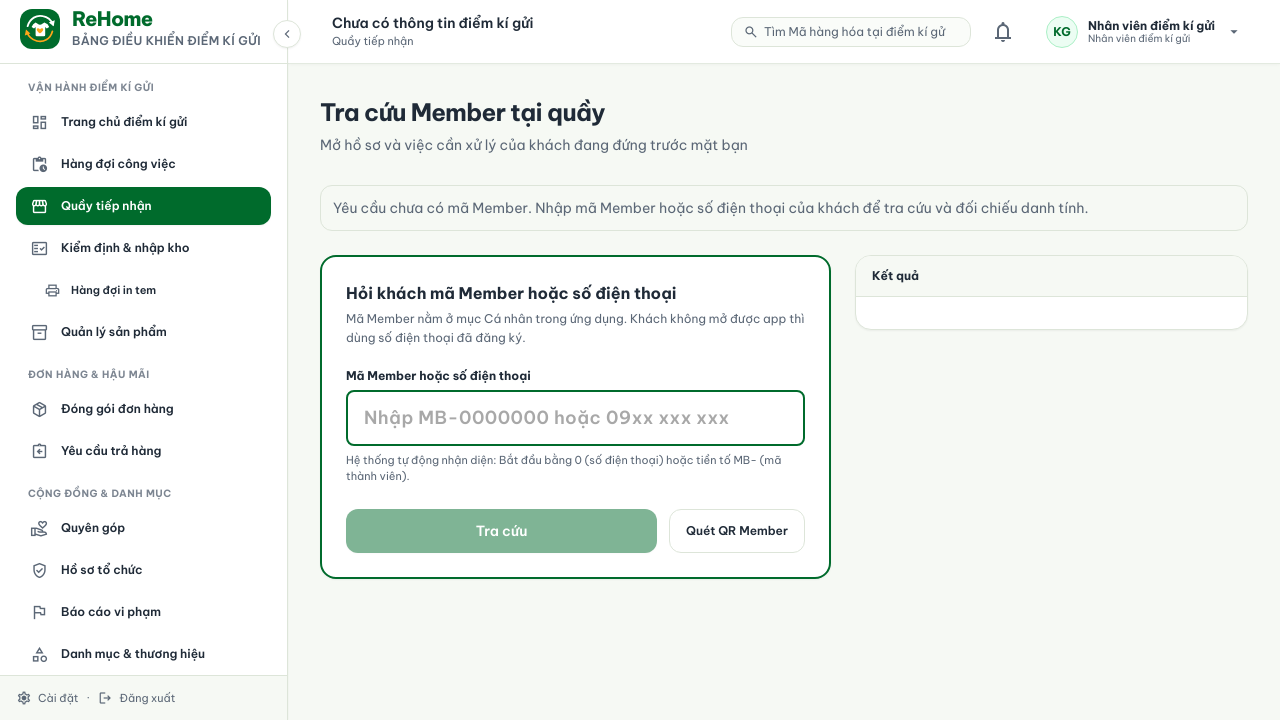
Test case: API 28 queue contract › asks for a supported lookup instead of sending accountId as a Member code
This screenshot has width=1280, height=720.
expect the message shows "Nhập mã Member hoặc số điện thoại": met, box [333,199,1088,217]
In the field with placeholder "Nhập MB-0000000 hoặc 09xx xxx xxx": [576, 418] box [346,390,805,446], type "MB-001"
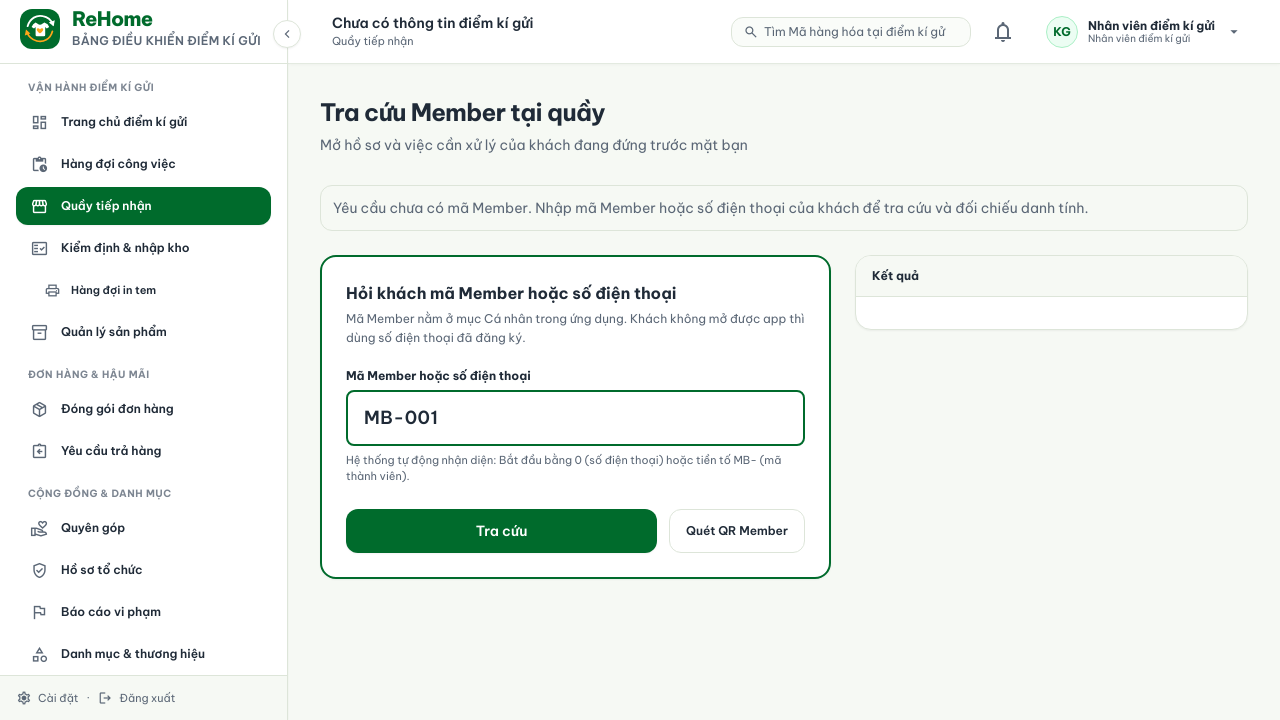
Click the button "Tra cứu": [502, 531] box [346,509,657,553]
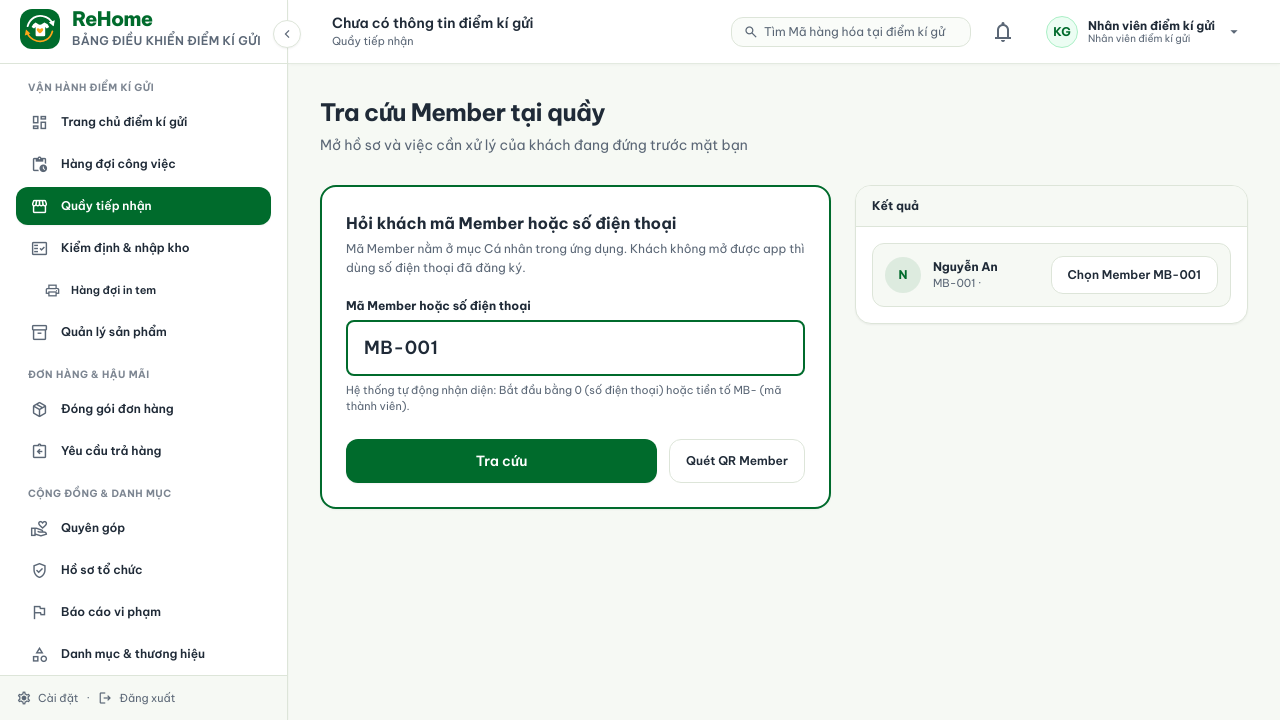
expect the text "Nguyễn An" is shown: met, box [933,258,998,274]
